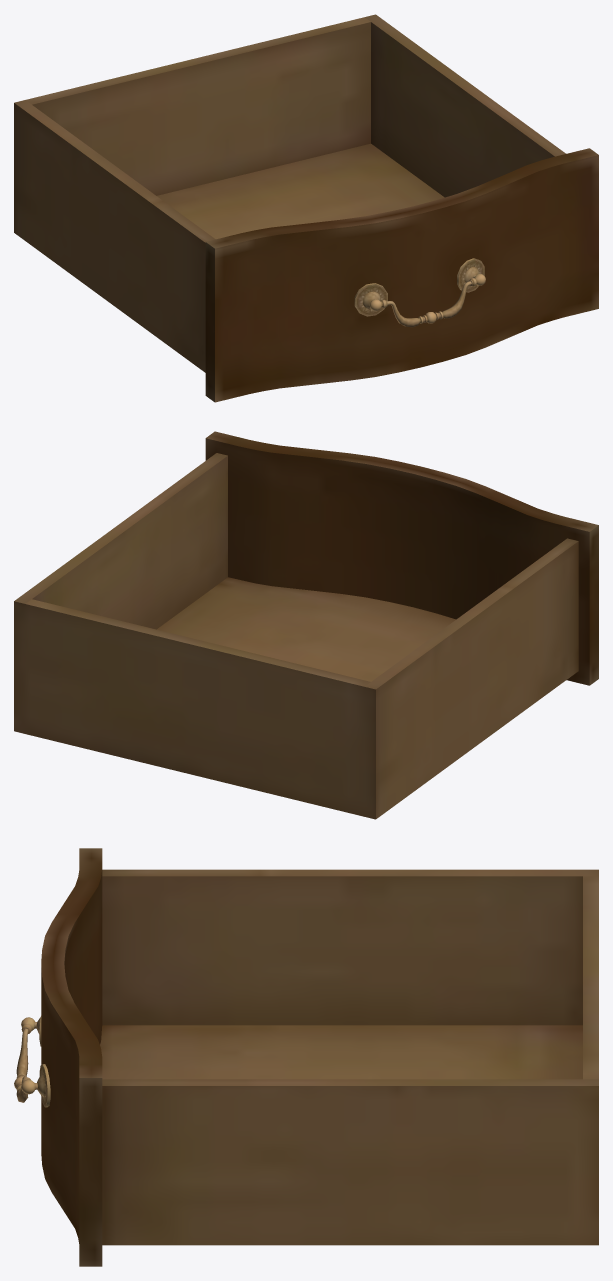
File: SM_bedside_table_drawer_02_5975c3.glb
3 views of the same model, one above another, from view 1: azimuth 30°, elevation 25°; view 2: azimuth 150°, elevation 25°; view 3: azimuth 270°, elevation 25° (orthographic). The views are drawn at different scales.
Size of the model in its own units: 0.3377 by 0.1293 by 0.3636.
Materials: 1 (1 with a texture image).
